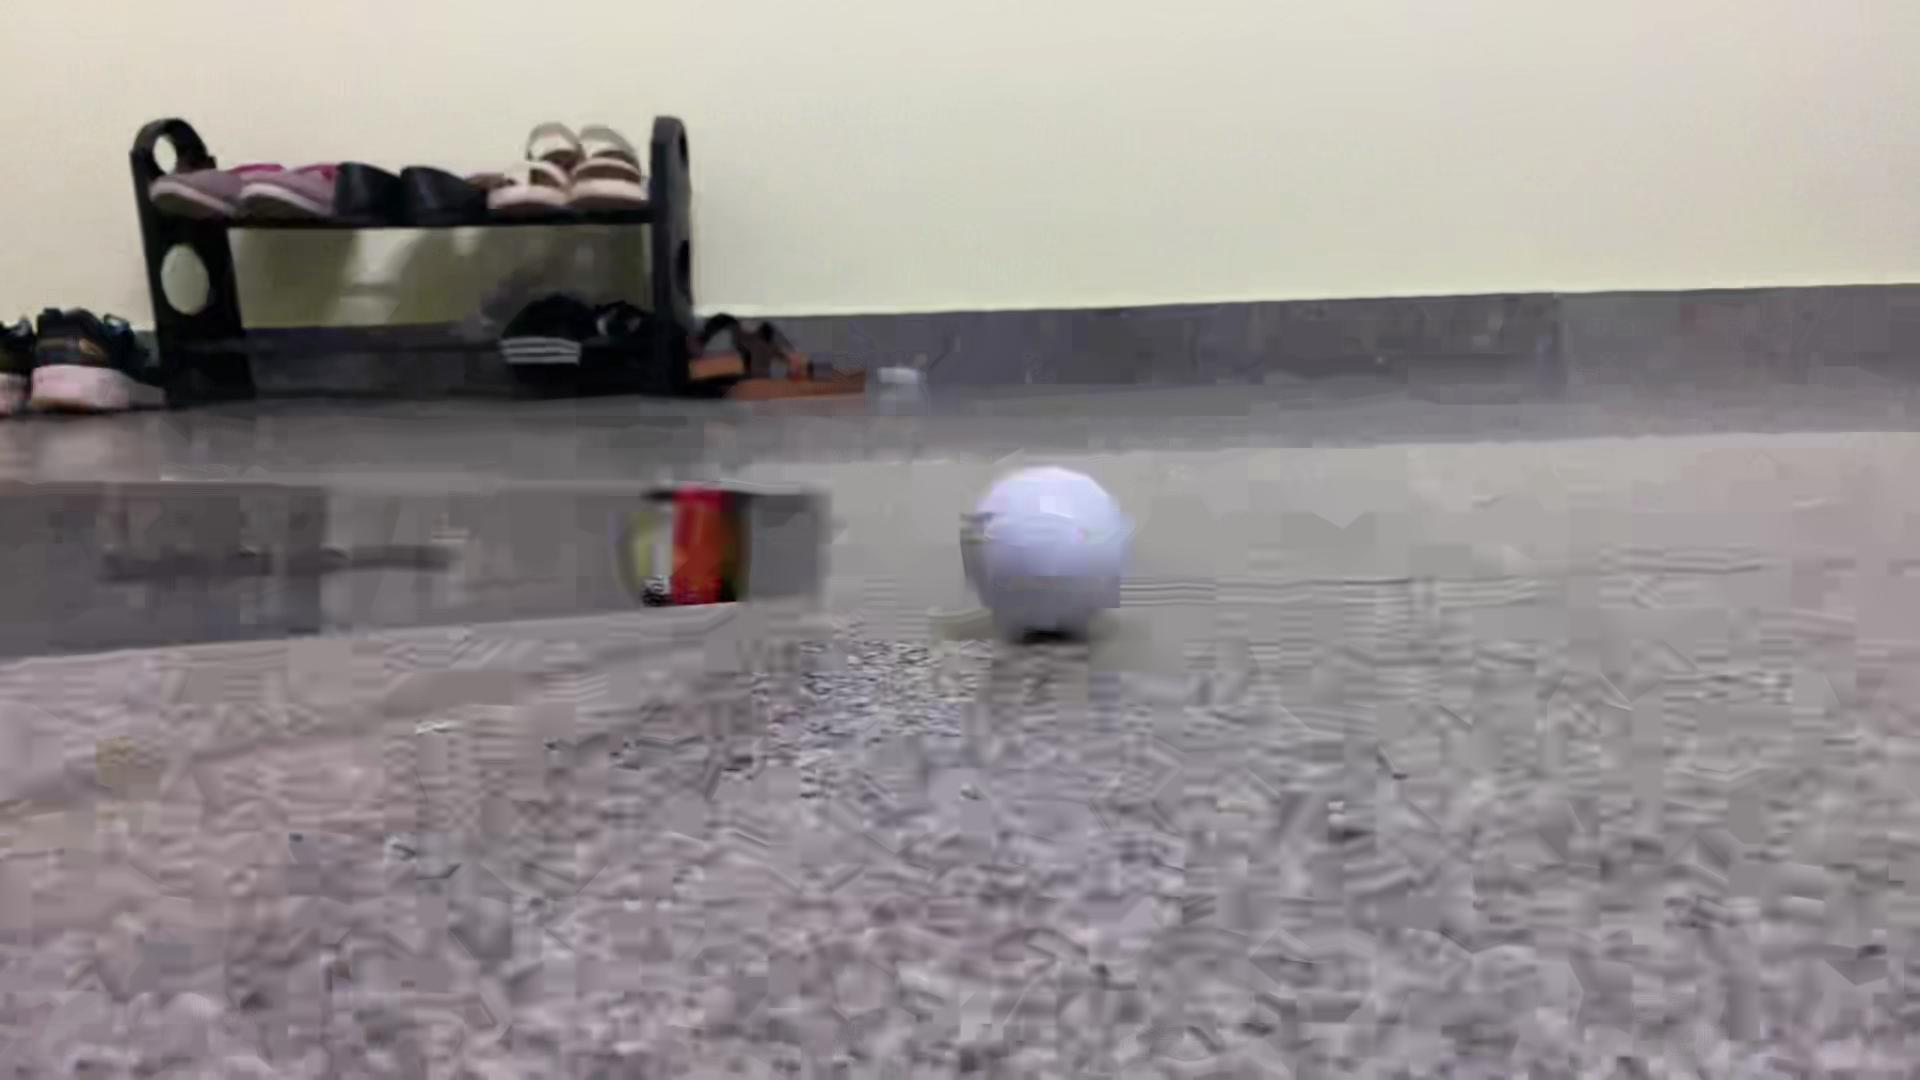golfball: (960, 467, 1134, 639)
